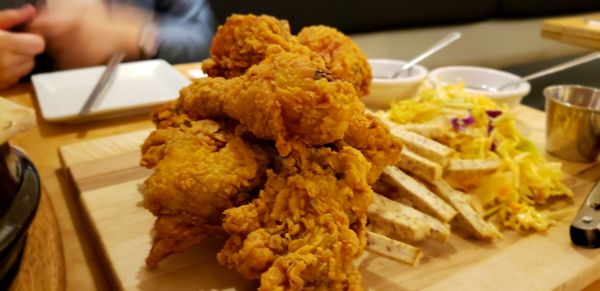sushi: (428, 65, 530, 115)
